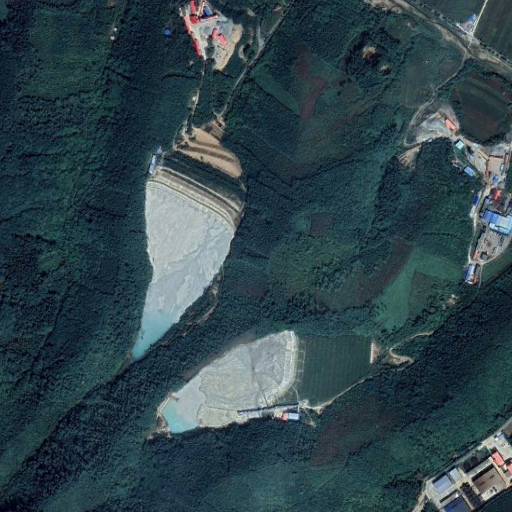tp: (129, 127, 247, 360), (153, 333, 303, 436)
